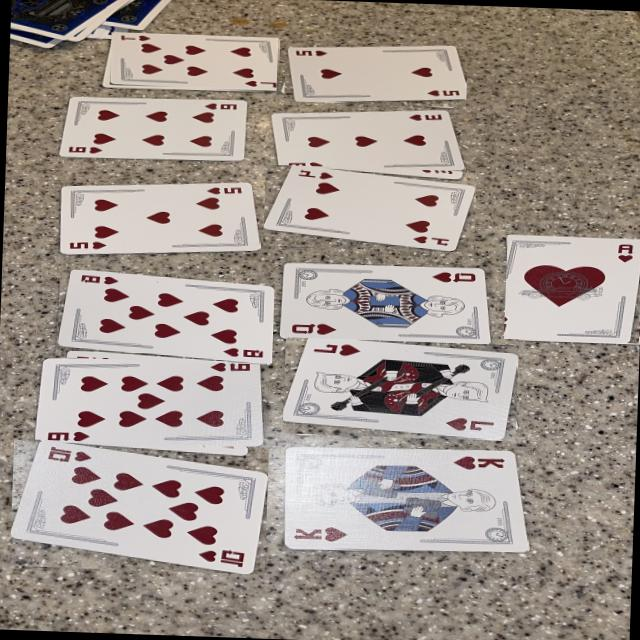10 of hearts: (10, 441, 267, 574)
2 of hearts: (286, 46, 465, 101)
3 of hearts: (267, 111, 464, 173)
4 of hearts: (263, 166, 476, 251)
5 of hearts: (59, 182, 260, 254)
6 of hearts: (59, 97, 247, 161)
7 of hearts: (110, 32, 280, 92)
8 of hearts: (57, 270, 274, 365)
9 of hearts: (35, 357, 264, 448)
Ace of hearts: (504, 235, 640, 343)
Jack of hearts: (283, 338, 517, 440)
King of hearts: (284, 448, 527, 553)
Queen of hearts: (279, 263, 491, 345)
card back: (10, 0, 126, 39), (106, 0, 170, 29)
